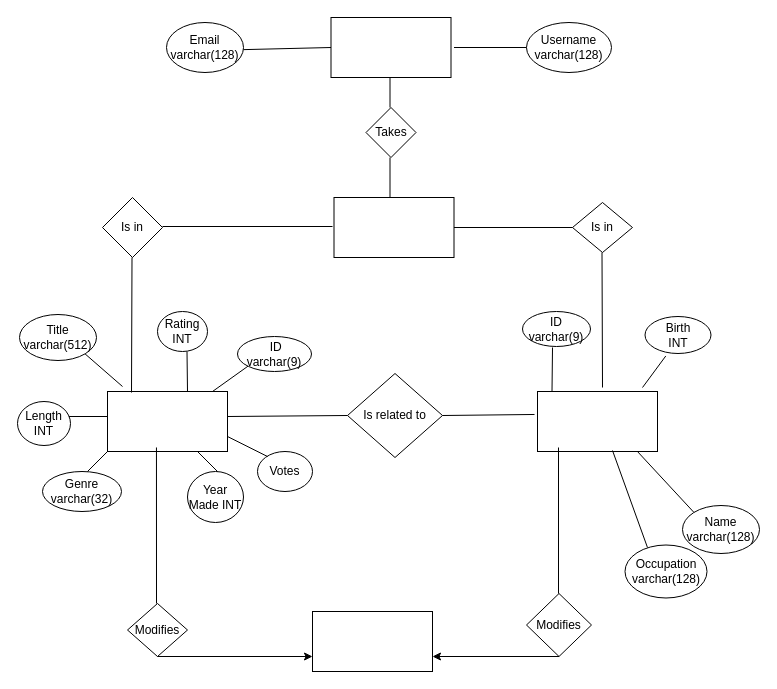
The diagram is 777 pixels wide and 689 high, and some of its shapes have lost their labels. The centre of each missing label's shape, as x and y in pixels:
Actor: the point at 597,421
Admin: the point at 372,641
Movie: the point at 167,421
Quiz: the point at 393,227
Quiz Taker: the point at 390,47
